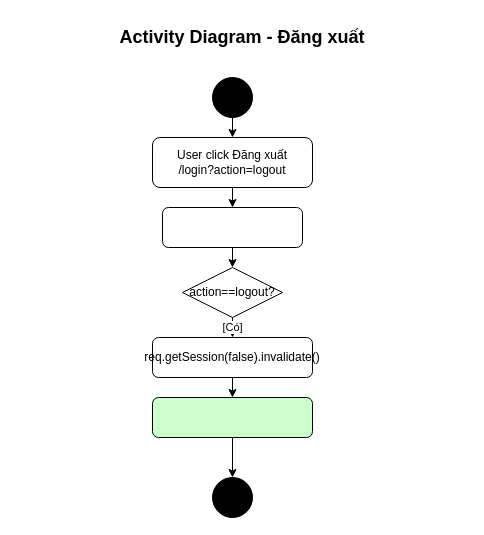
The diagram is 484 pixels wide and 535 high, and some of its shapes have lost their labels. The shapes that lost their labels are listed below. From the top down, each one's box as (x1, y1, x2, y2) in pixels, then its label:
(162, 206, 302, 248): LoginServlet.doGet()
(152, 396, 312, 438): redirect → /trang-chu
